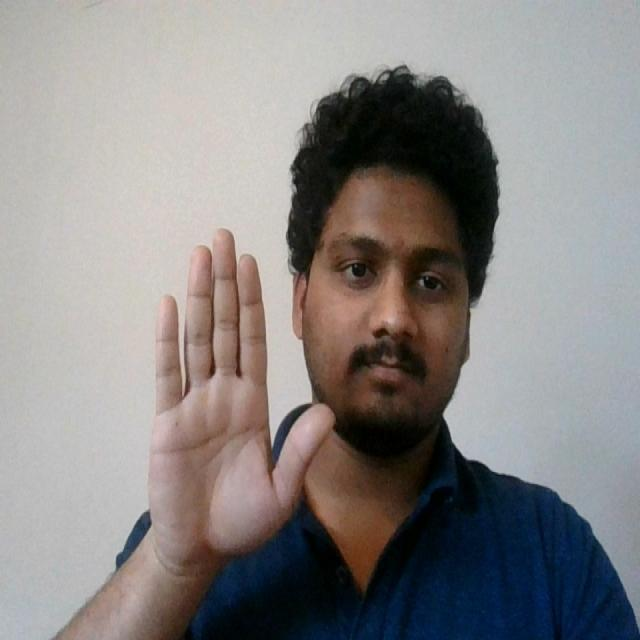Hello: (142, 219, 340, 580)
